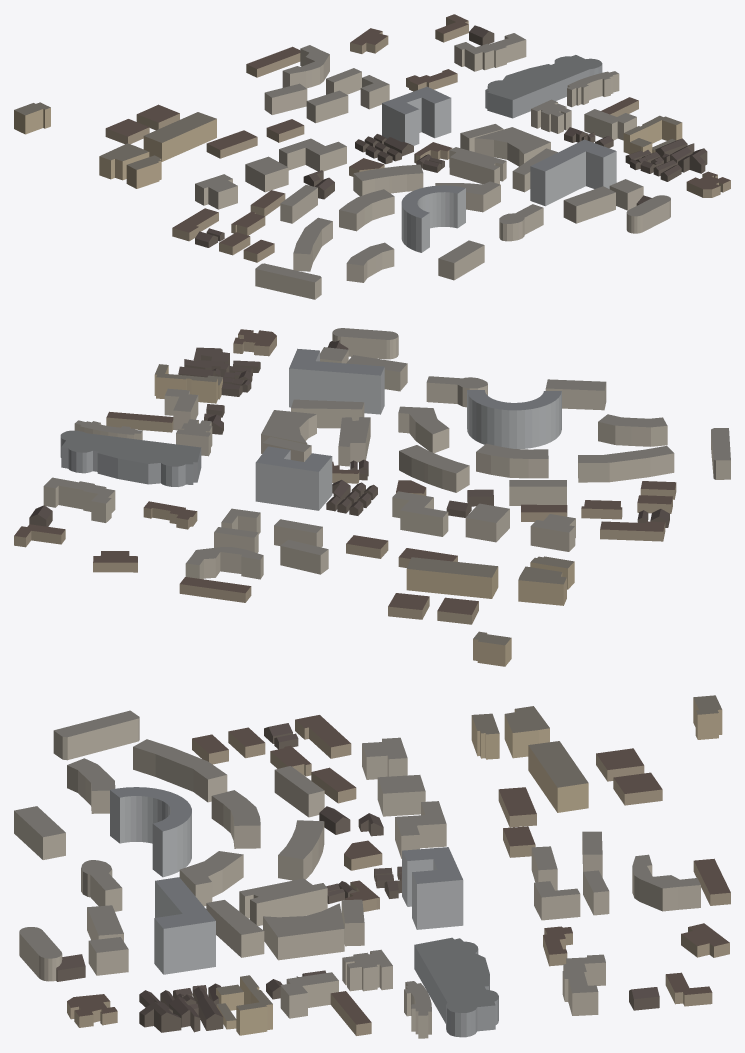
Rendered from tile_5_4.glb.
3 renders of one model, top to bottom at view 1: azimuth 30°, elevation 25°; view 2: azimuth 150°, elevation 25°; view 3: azimuth 270°, elevation 25°, orthographic. The views are drawn at different scales.
Parts seen in each view (by area): view 1: HP-w298784158, HP-w859488788, HP-w859488790, HP-w387549830, HP-w1153639392, HP-w1512914116, HP-w859488884, HP-w859488794, HP-w859488796, HP-w1435294186, HP-w1512481848, HP-w859488793 (+40 smaller); view 2: HP-w298784158, HP-w859488790, HP-w859488788, HP-w387549830, HP-w1153639392, HP-w859488792, HP-w859488794, HP-w859488793, HP-w859488884, HP-w288650733, HP-w859488791, HP-w859488796 (+39 smaller); view 3: HP-w298784158, HP-w859488790, HP-w859488788, HP-w387549830, HP-w1512914116, HP-w859488792, HP-w1153639392, HP-w1512481848, HP-w1435294186, HP-w288650733, HP-w859488884, HP-w859488789 (+49 smaller).
Part boxes in pixels (bbox=[...]): HP-w298784158: bbox=[485, 55, 602, 118]; HP-w859488788: bbox=[530, 139, 616, 206]; HP-w859488790: bbox=[401, 185, 465, 252]; HP-w387549830: bbox=[382, 86, 451, 145]; HP-w1153639392: bbox=[143, 112, 216, 161]; HP-w1512914116: bbox=[474, 127, 550, 166]; HP-w859488884: bbox=[454, 33, 526, 71]; HP-w859488794: bbox=[353, 164, 423, 196]; HP-w859488796: bbox=[279, 138, 346, 171]; HP-w1435294186: bbox=[255, 263, 321, 299]; HP-w1512481848: bbox=[449, 147, 506, 184]; HP-w859488793: bbox=[339, 189, 394, 231]; HP-w298784158: bbox=[60, 430, 201, 486]; HP-w859488790: bbox=[467, 390, 561, 449]; HP-w859488788: bbox=[289, 348, 384, 414]; HP-w387549830: bbox=[255, 446, 332, 510]; HP-w1153639392: bbox=[406, 557, 498, 598]; HP-w859488792: bbox=[578, 445, 674, 482]; HP-w859488794: bbox=[399, 445, 469, 492]; HP-w859488793: bbox=[476, 443, 548, 478]; HP-w859488884: bbox=[43, 477, 115, 522]; HP-w288650733: bbox=[185, 547, 263, 579]; HP-w859488791: bbox=[598, 414, 667, 446]; HP-w859488796: bbox=[392, 491, 448, 536]; HP-w298784158: bbox=[414, 937, 498, 1037]; HP-w859488790: bbox=[110, 787, 191, 877]; HP-w859488788: bbox=[154, 877, 215, 974]; HP-w387549830: bbox=[402, 847, 463, 929]; HP-w1512914116: bbox=[263, 903, 344, 960]; HP-w859488792: bbox=[133, 739, 227, 802]; HP-w1153639392: bbox=[528, 741, 588, 812]; HP-w1512481848: bbox=[239, 878, 327, 925]; HP-w1435294186: bbox=[53, 710, 139, 760]; HP-w288650733: bbox=[632, 854, 700, 911]; HP-w859488884: bbox=[562, 954, 605, 1015]; HP-w859488789: bbox=[179, 851, 243, 906].
Bounding box in the file's own units: 535 × 36 × 510.
